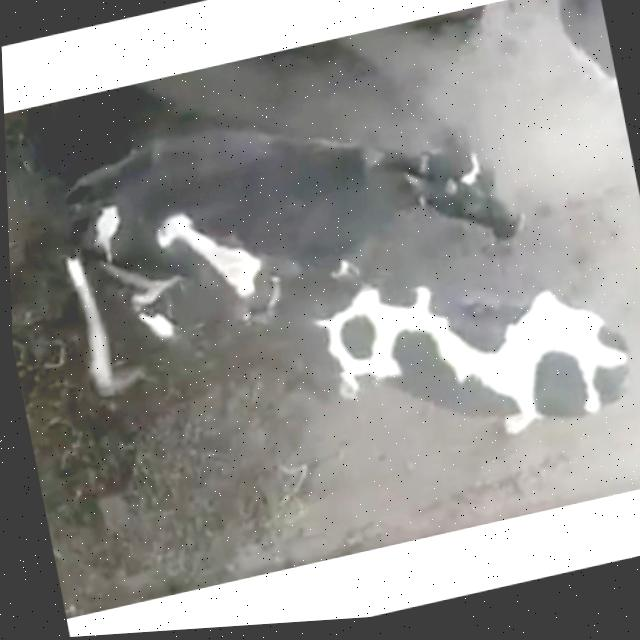propping: (126, 165, 310, 352)
